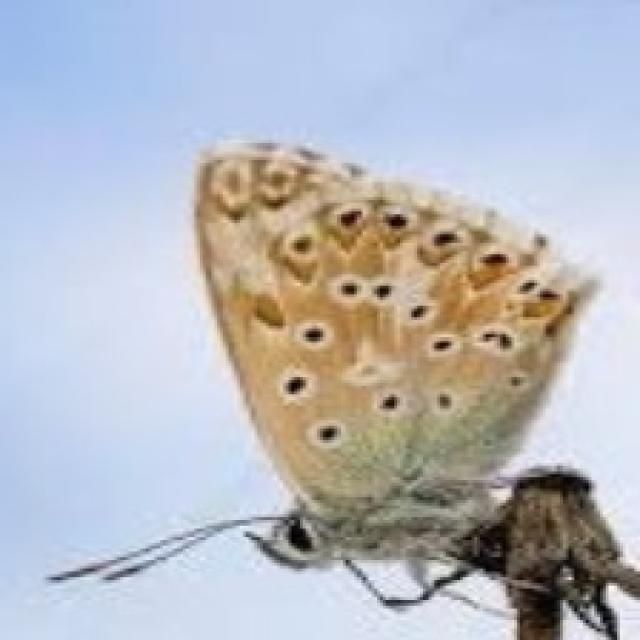butterfly: (43, 134, 637, 637)
